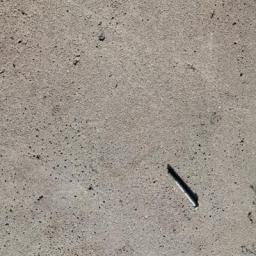FOD: (164, 161, 203, 213)
